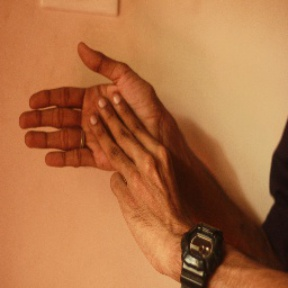M: (16, 41, 172, 198)
